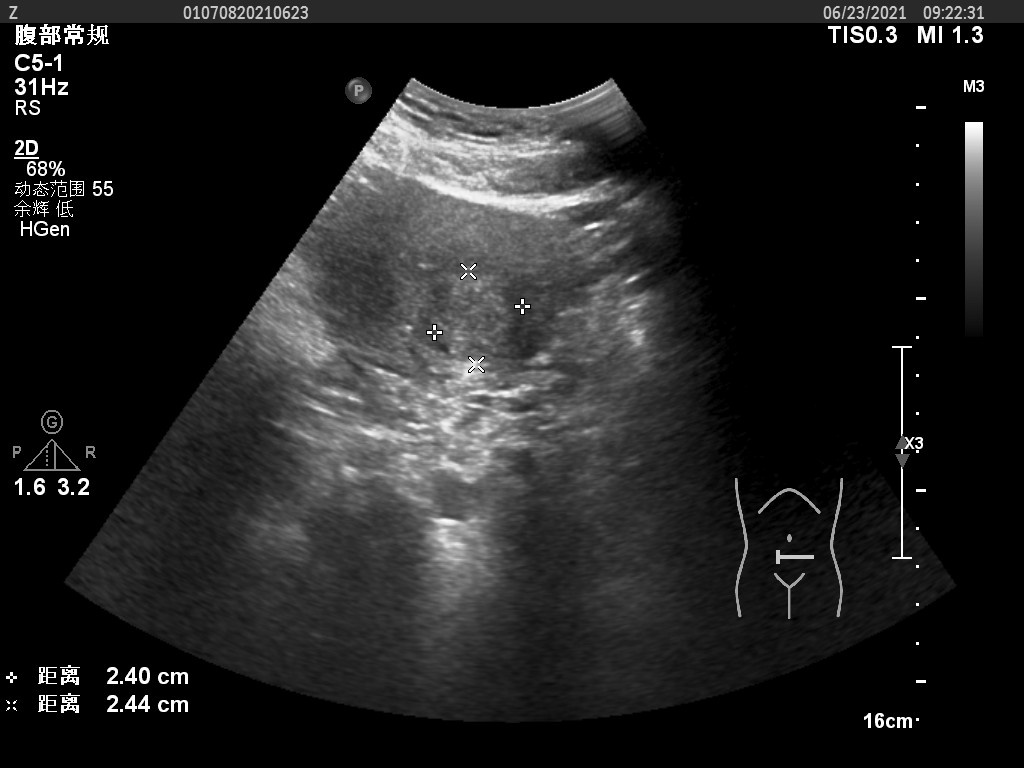肌瘤: (437, 274, 513, 361)
